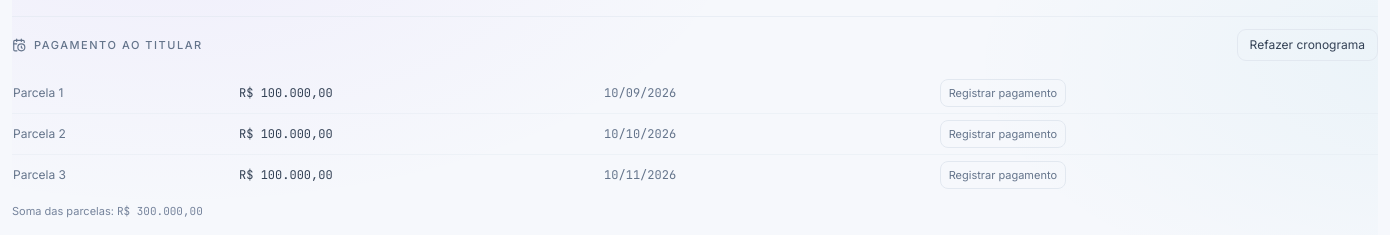
Test: Cronograma de pagamento ao titular › gestor dá baixa e a parcela passa a mostrar a data
What coordinates should you click on to do the following:
click the button "Registrar pagamento" in the row of "Parcela 1"
I would click on:
 (1003, 93)
Its box is [940,79,1066,107].
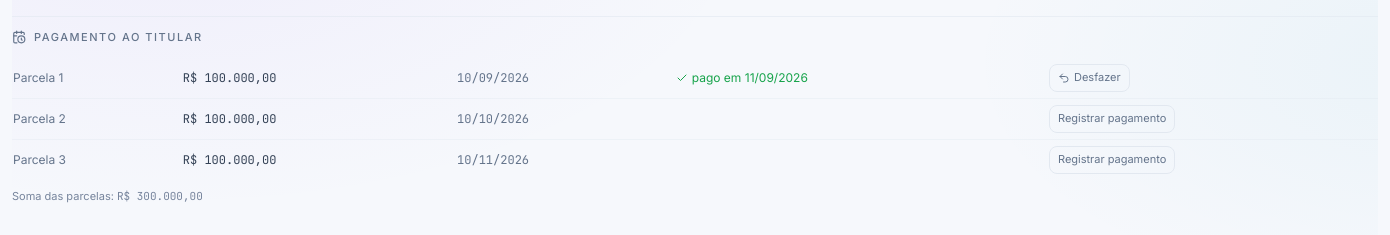
Check: the number of buttons "Registrar pagamento" is 2, box [1049,104,1175,132]; [1049,146,1175,174]
Check: the text "pago em 11/09/2026" is shown, box [676,70,808,84]
Check: the button "Desfazer" is shown, box [1049,64,1130,92]
